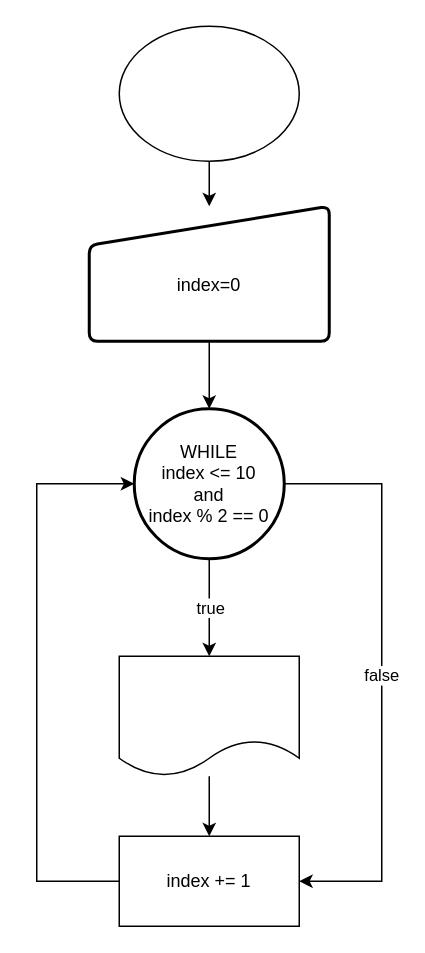
This 425x953 diagram has some shape labels left out. Each missing label, with the centre of its shape:
print(index): the point at 208,715
START: the point at 208,93
